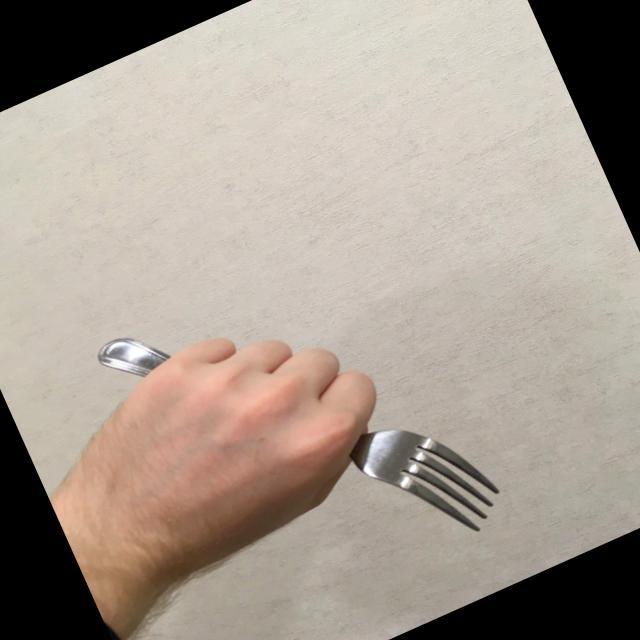fork: (92, 219, 512, 640)
